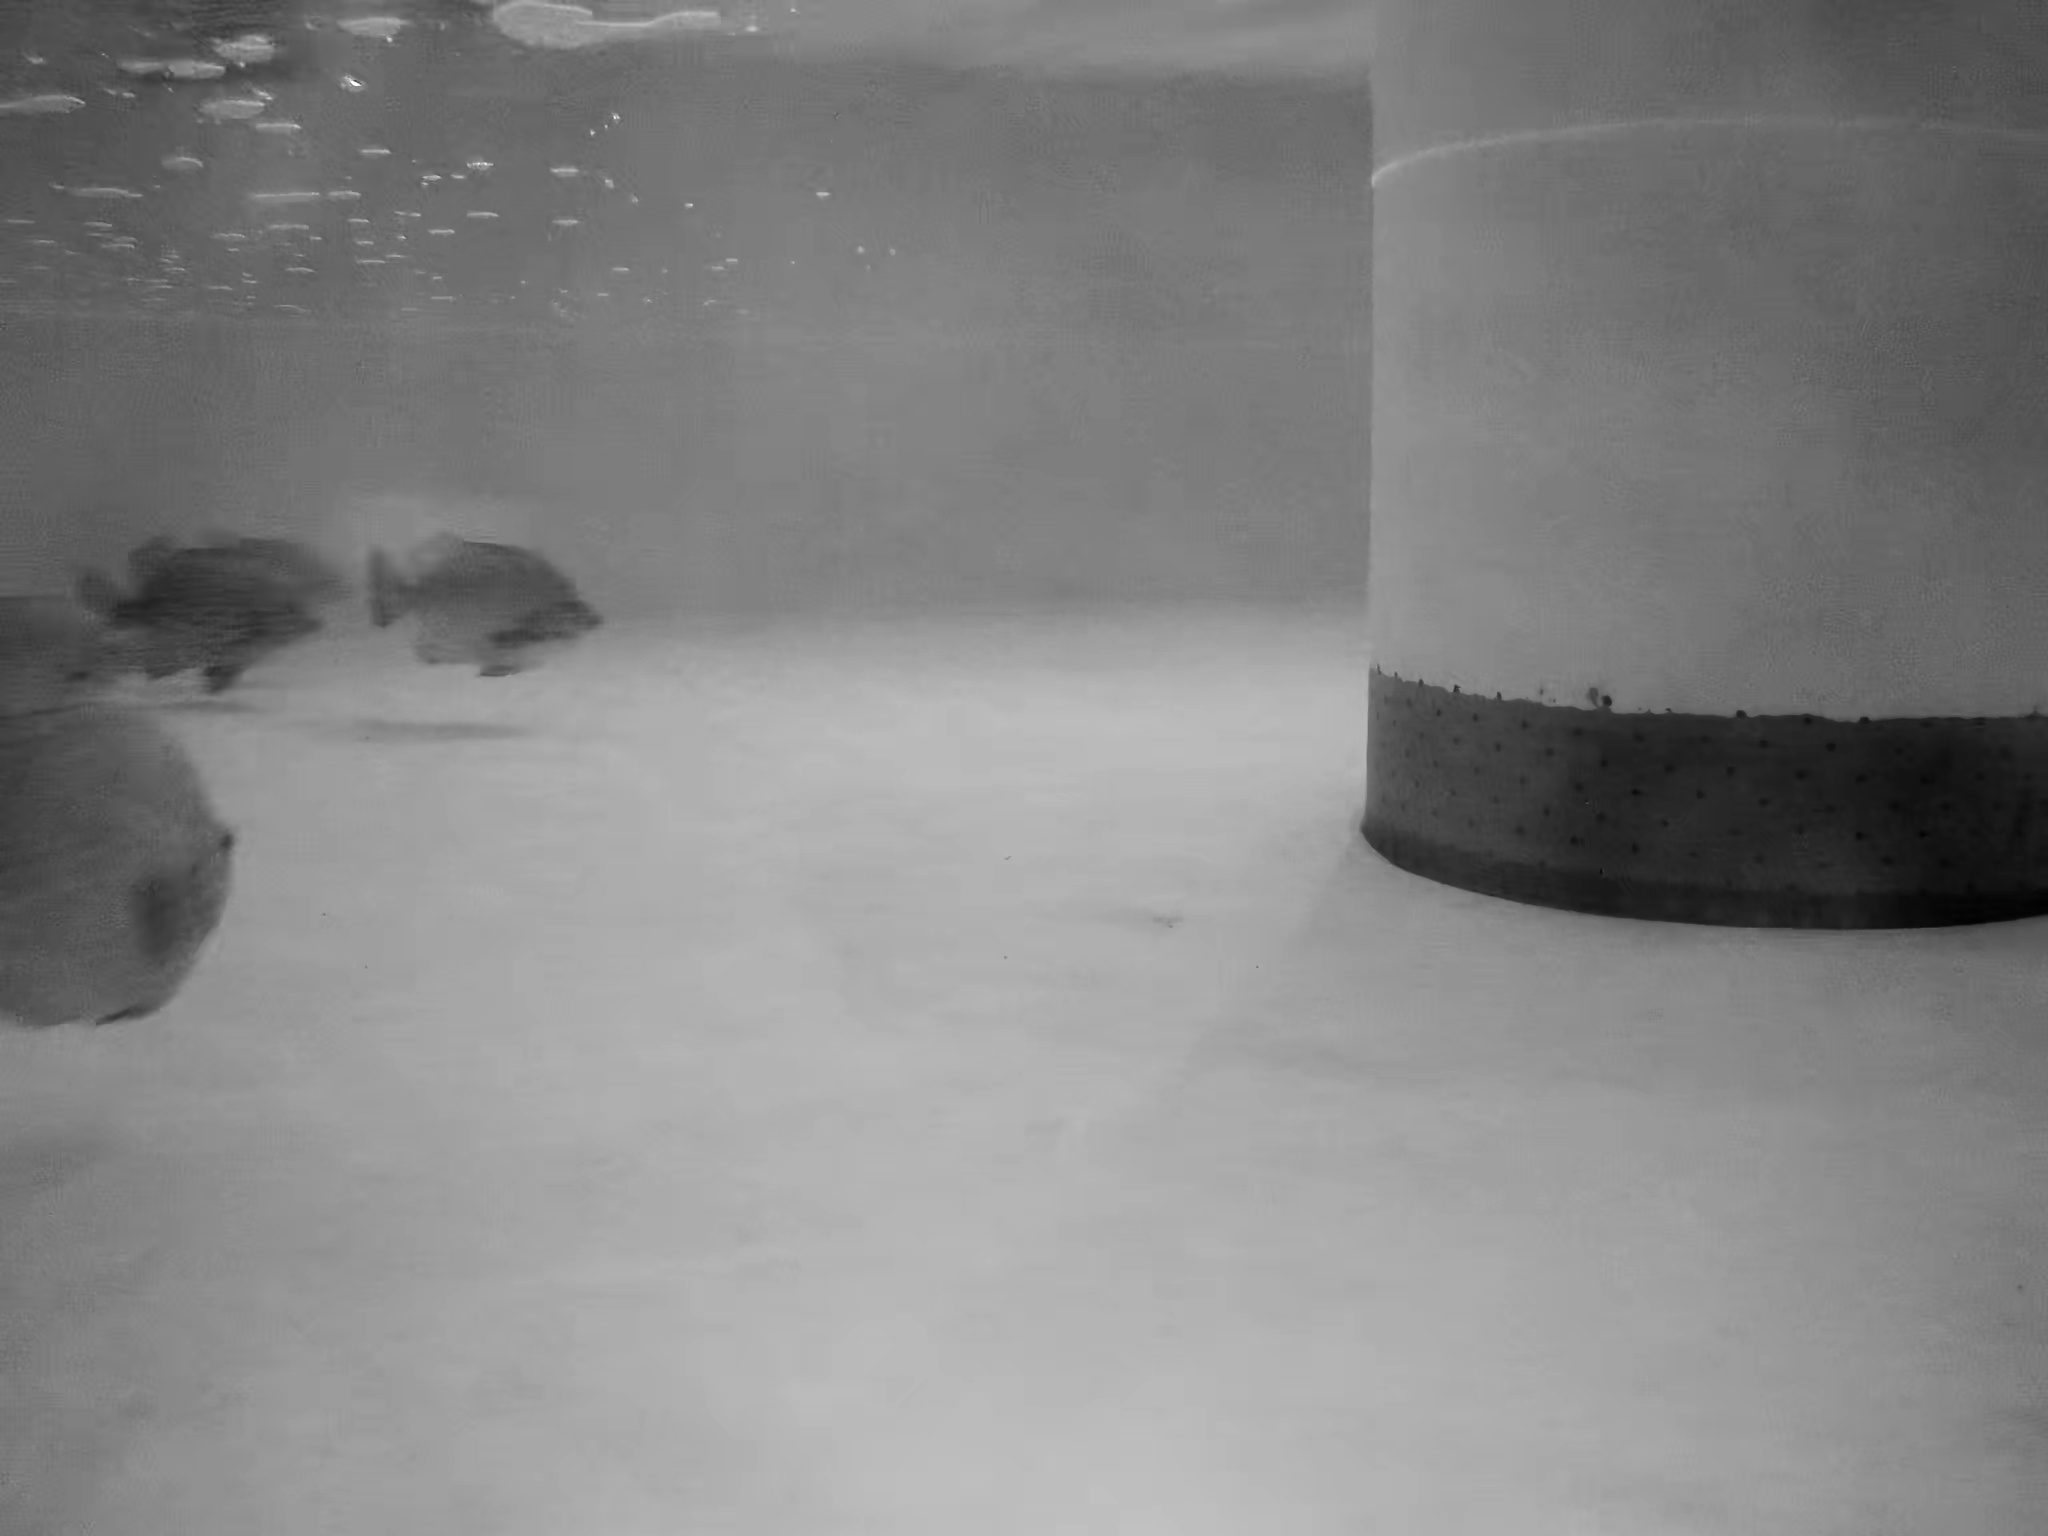fish: (2, 660, 232, 1047), (73, 534, 345, 708), (364, 524, 611, 691), (156, 524, 360, 620)
